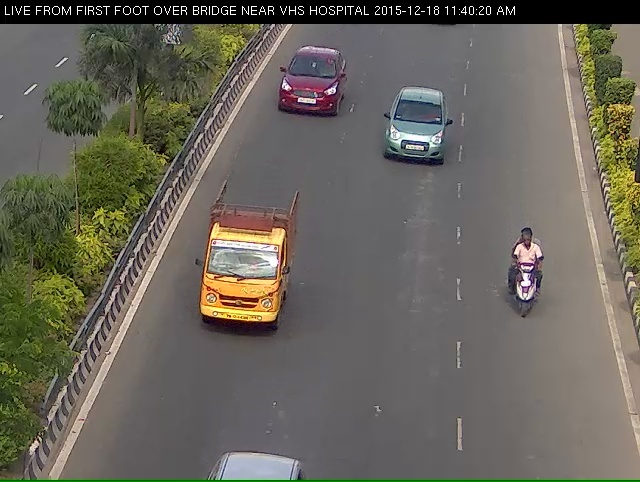Auto: (185, 213, 293, 367)
Car: (268, 53, 349, 139), (379, 101, 455, 192)
Person: (503, 245, 553, 340)
